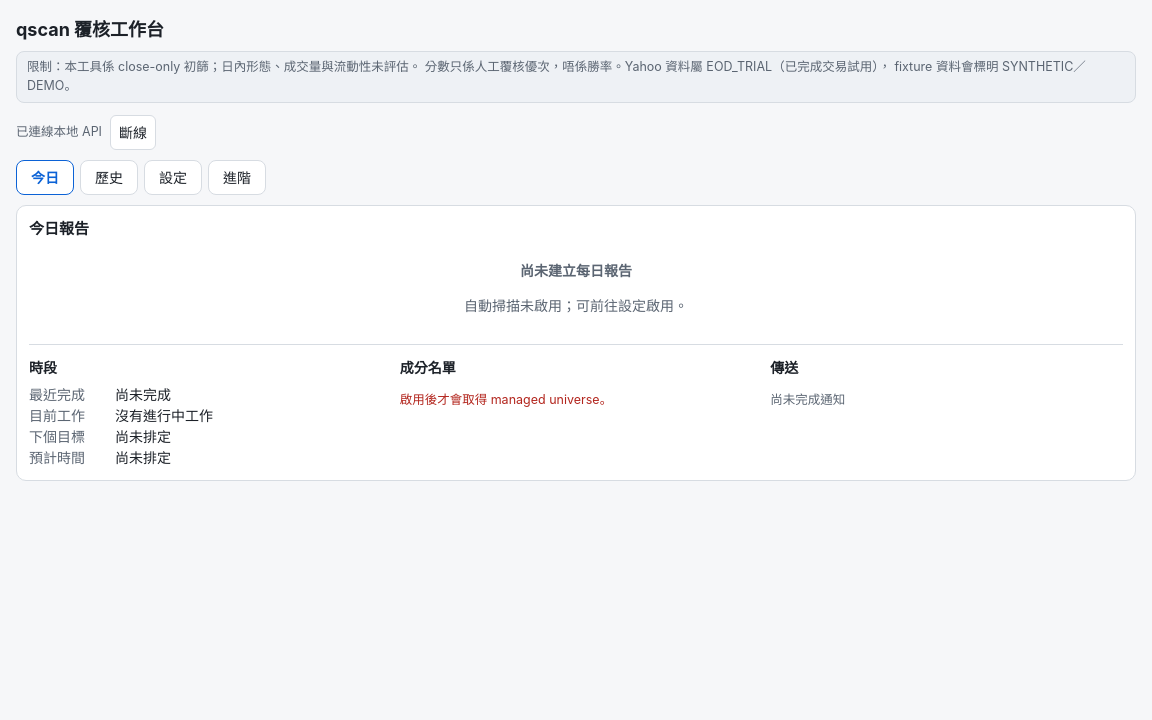
Test case: defaults to Today and keeps manual scanning under Advanced
Expected: the heading "今日報告" is shown, [29,218,89,238]
Expected: the button "今日" is shown, [16,160,74,194]
Click the button "進階": (237, 177) [208,160,266,194]
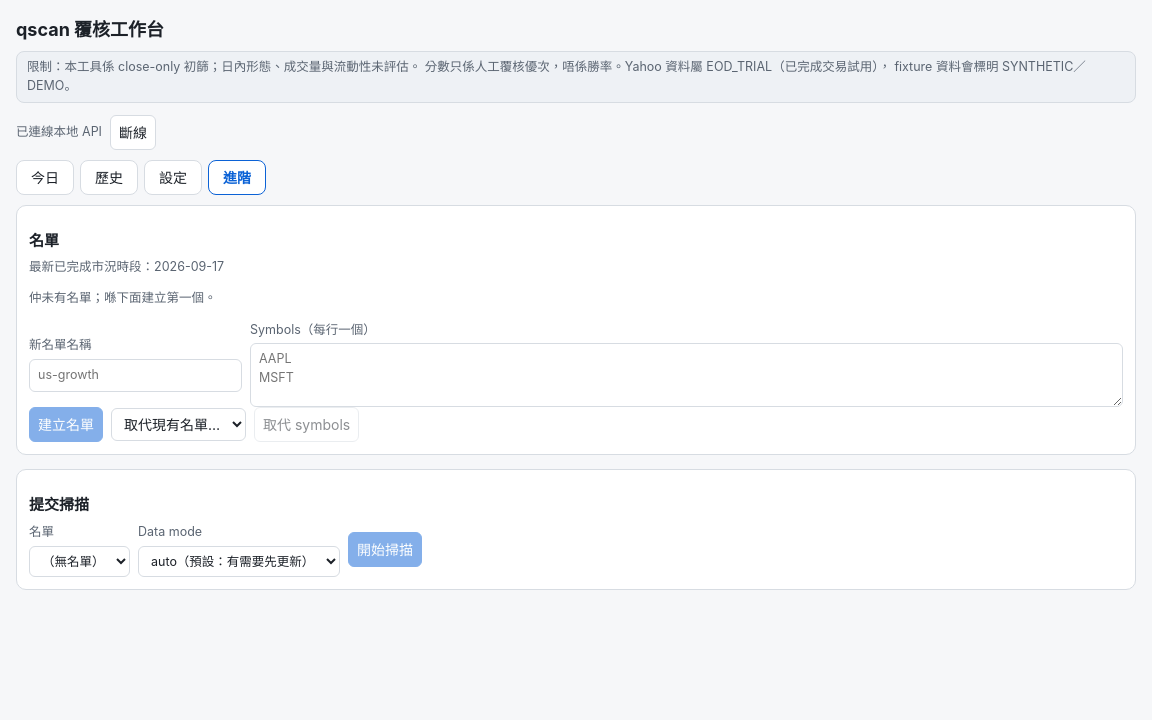
Expected: the heading "名單" is shown, [29,230,59,250]
